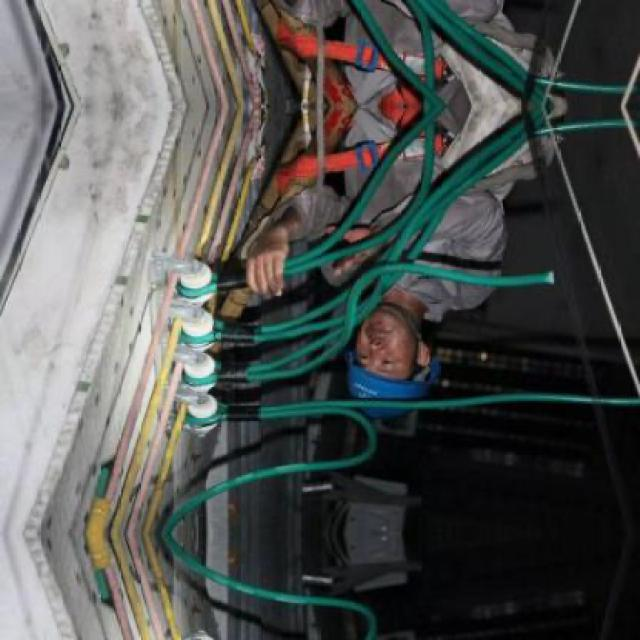con casco: (289, 304, 461, 414)
